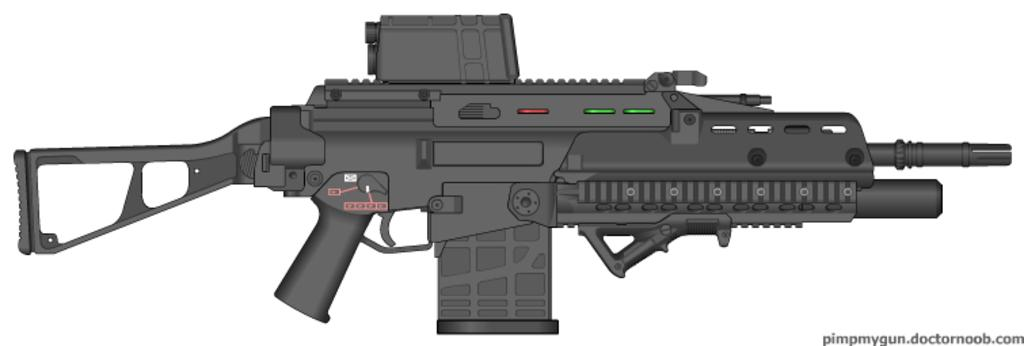Rifle: (0, 42, 1016, 328)
